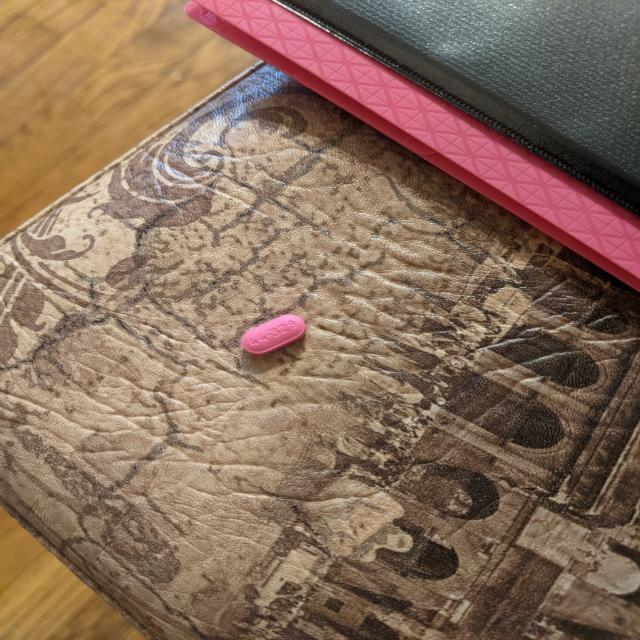non-organic waste: (240, 314, 307, 356)
